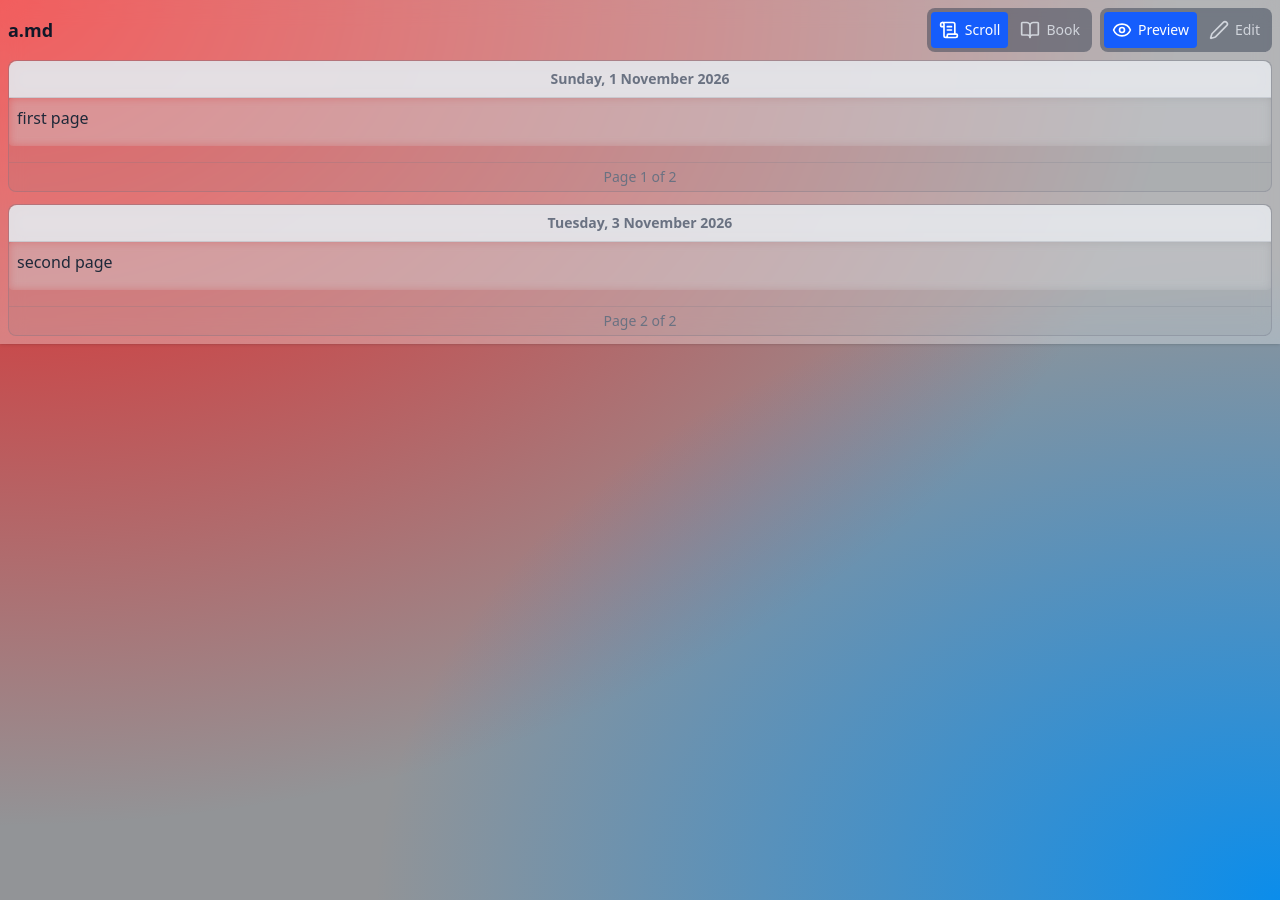
DiaryEditor scroll view › adds a page dated today and puts the cursor in it
This screenshot has width=1280, height=900.
Click the button with aria-label "Edit mode" at (1234, 30), box 1201,12 -> 1268,48
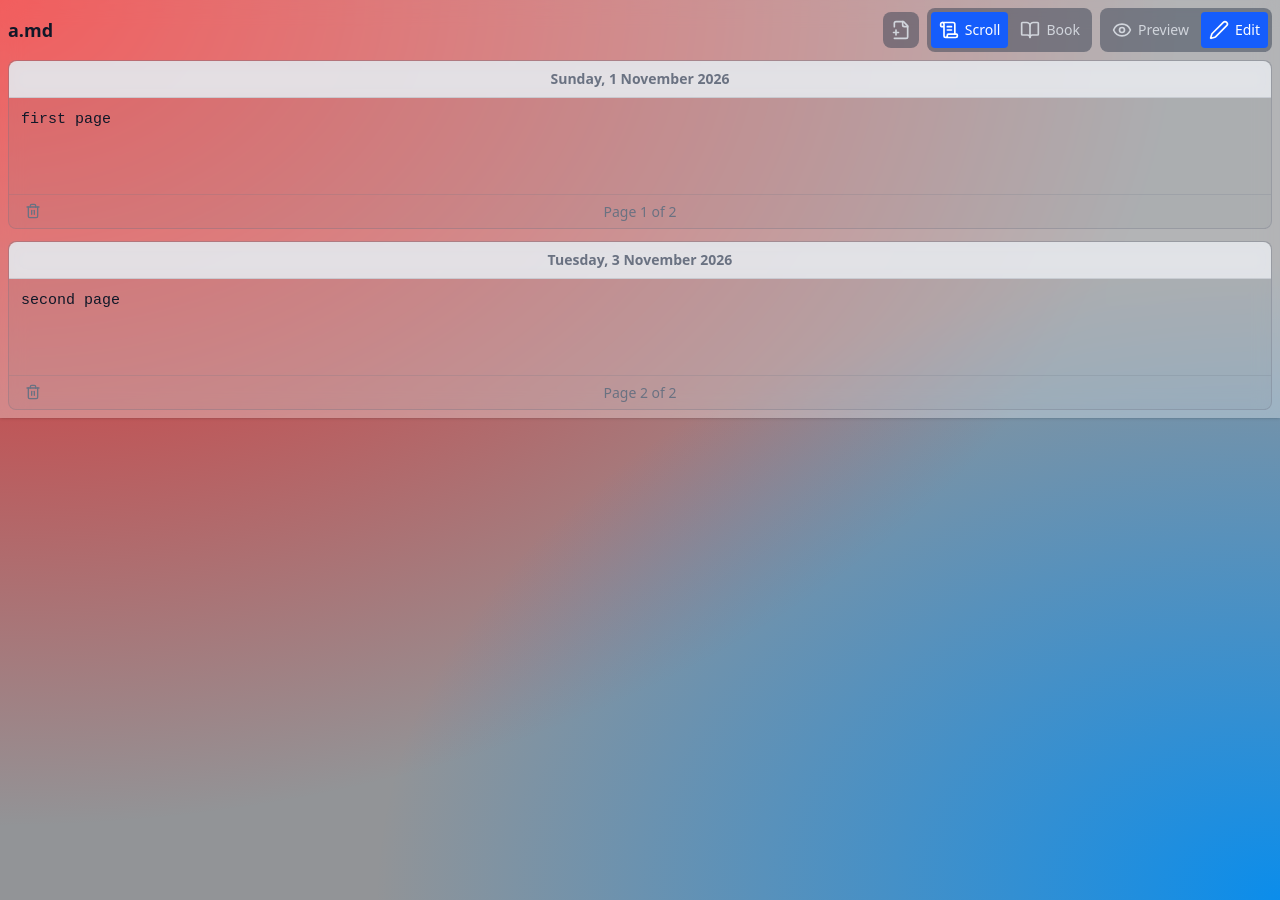
Click the button named "Add page" at (901, 30), box 883,12 -> 919,48
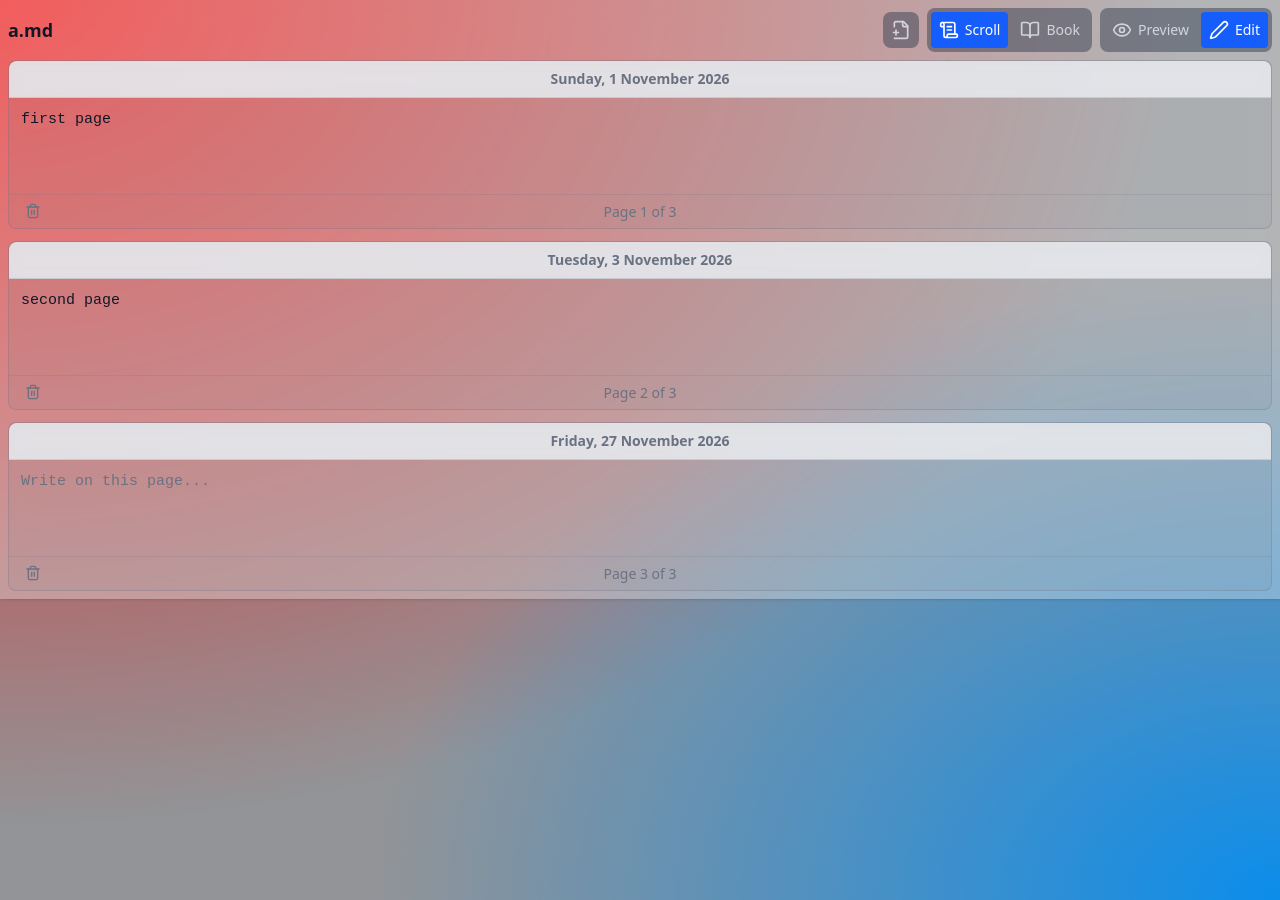
expect the text with test id "page-counter" reads "Page 3 of 3": met, box 604,564 -> 677,584
expect the number of text boxes named "Page text" is 3: met, box 9,98 -> 1271,194; 9,279 -> 1271,375; 9,460 -> 1271,556
